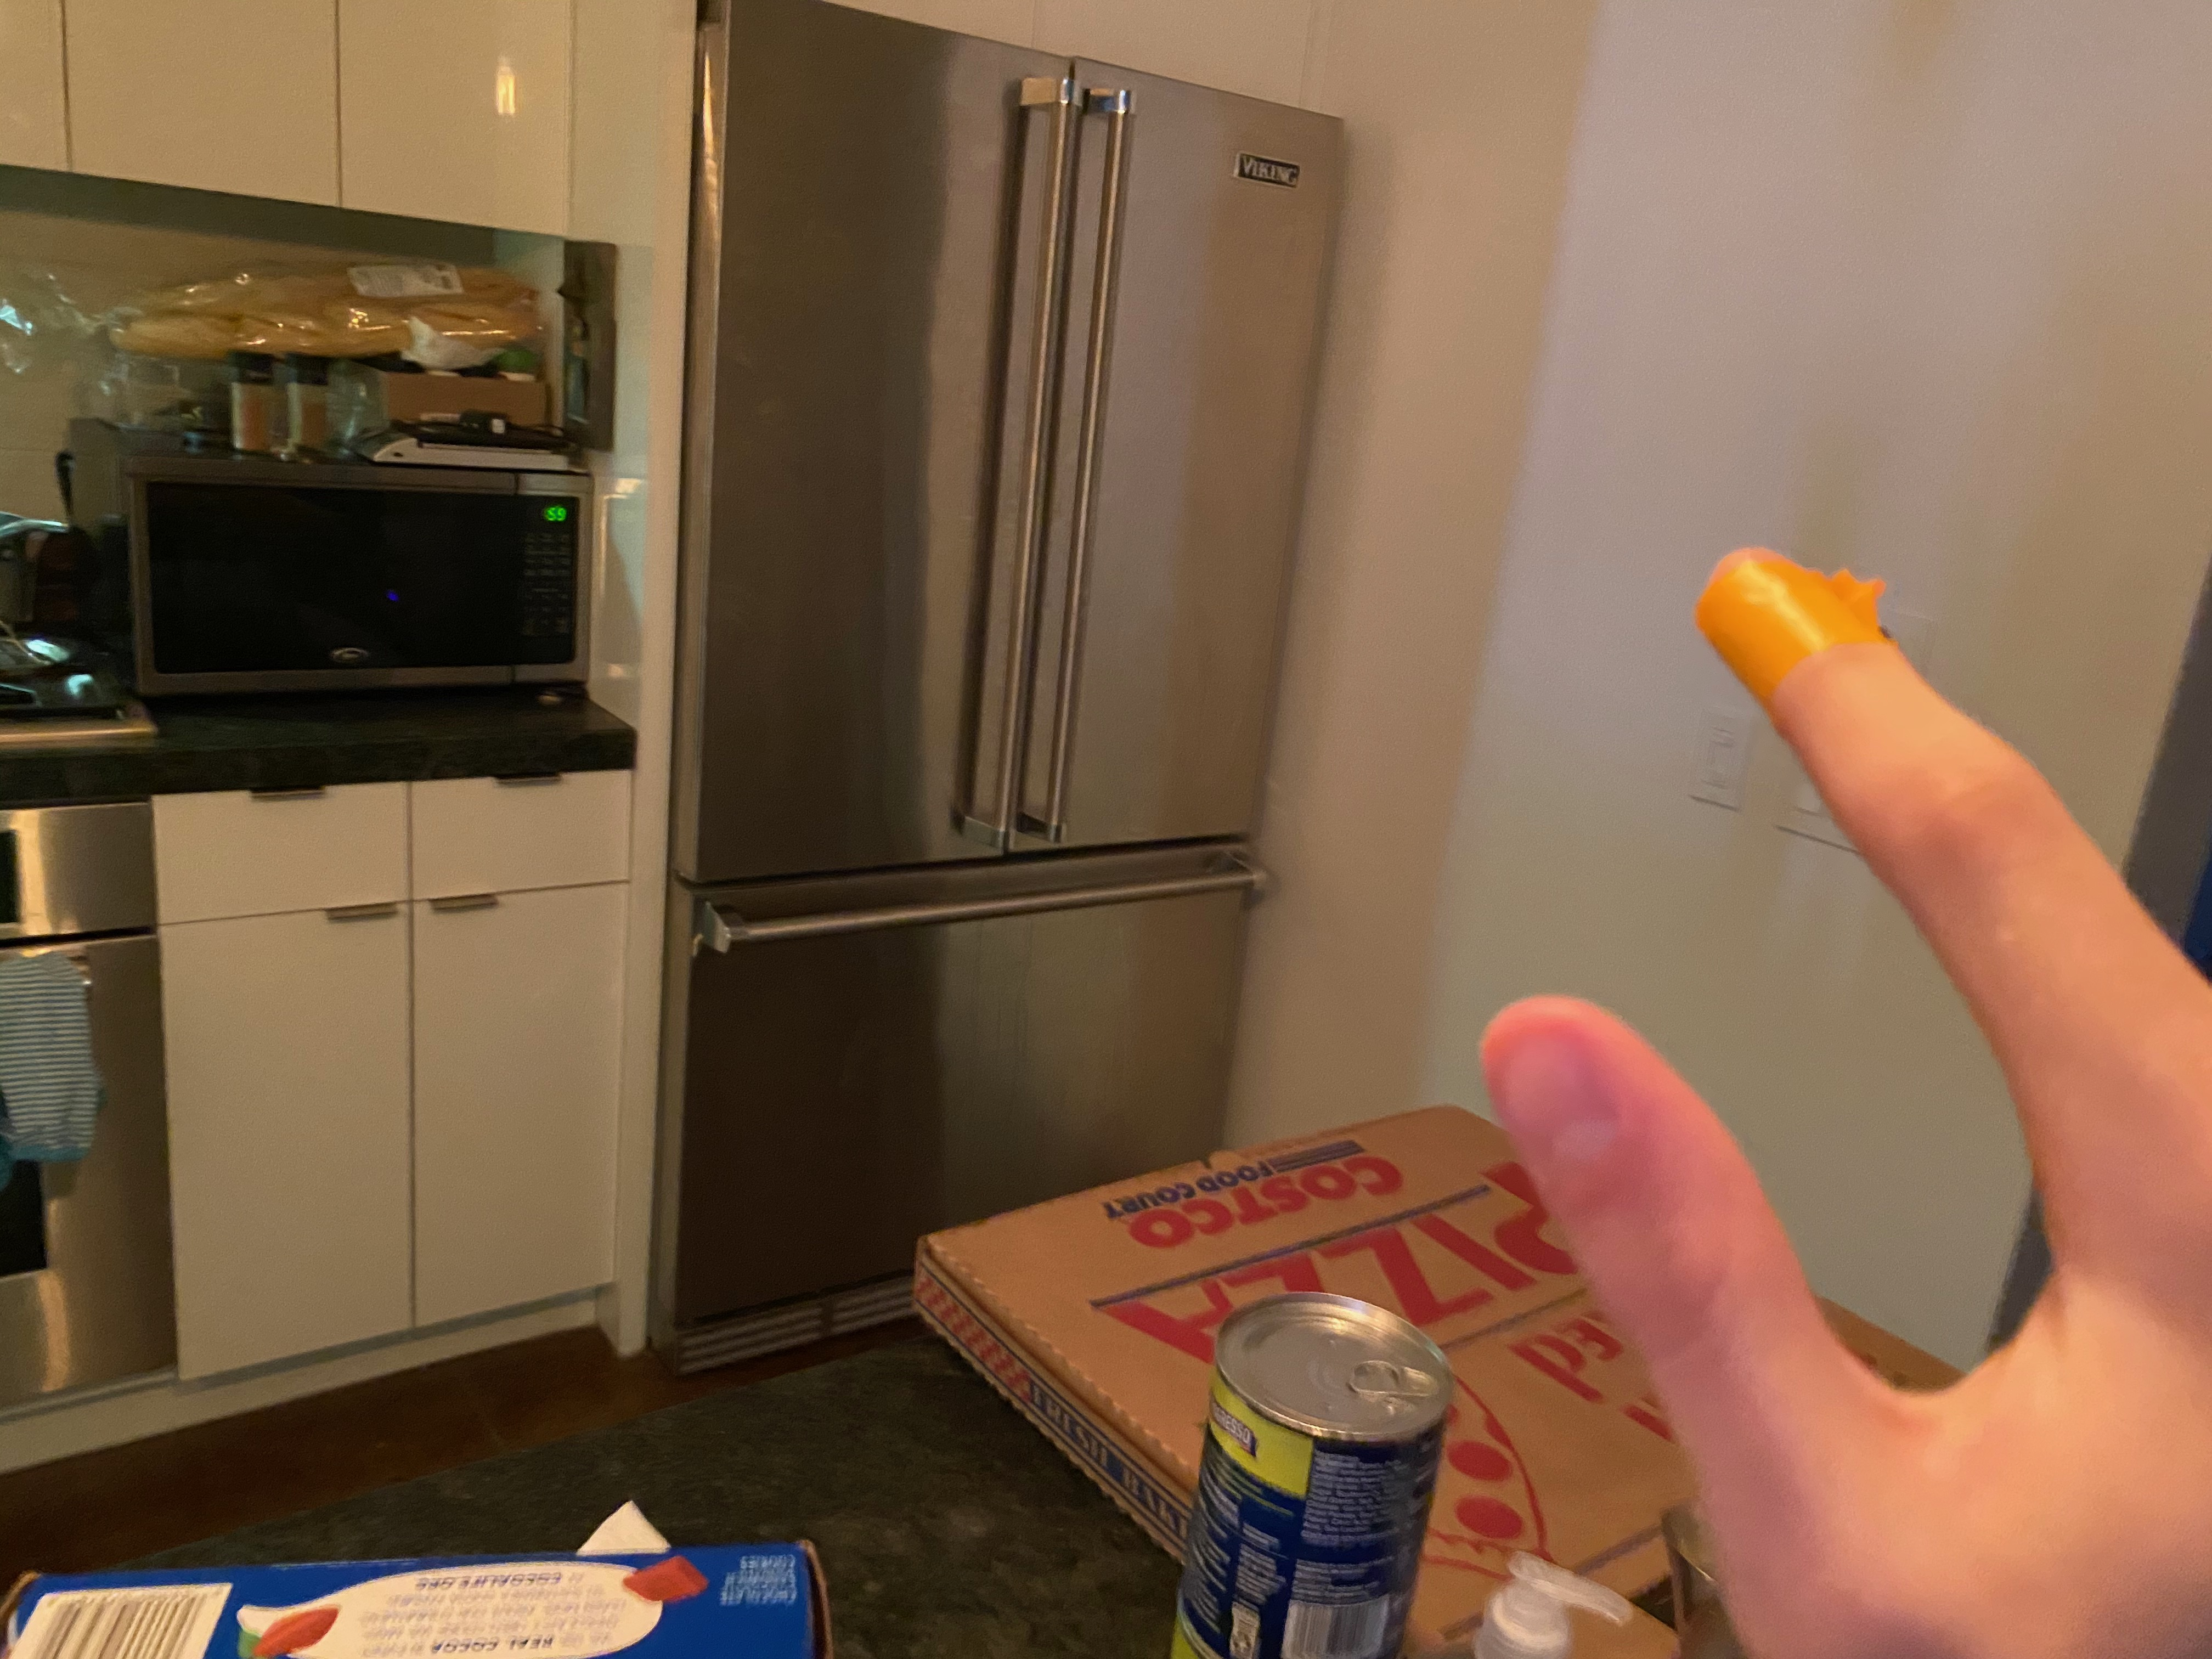fingertip: (1655, 544, 1918, 760)
